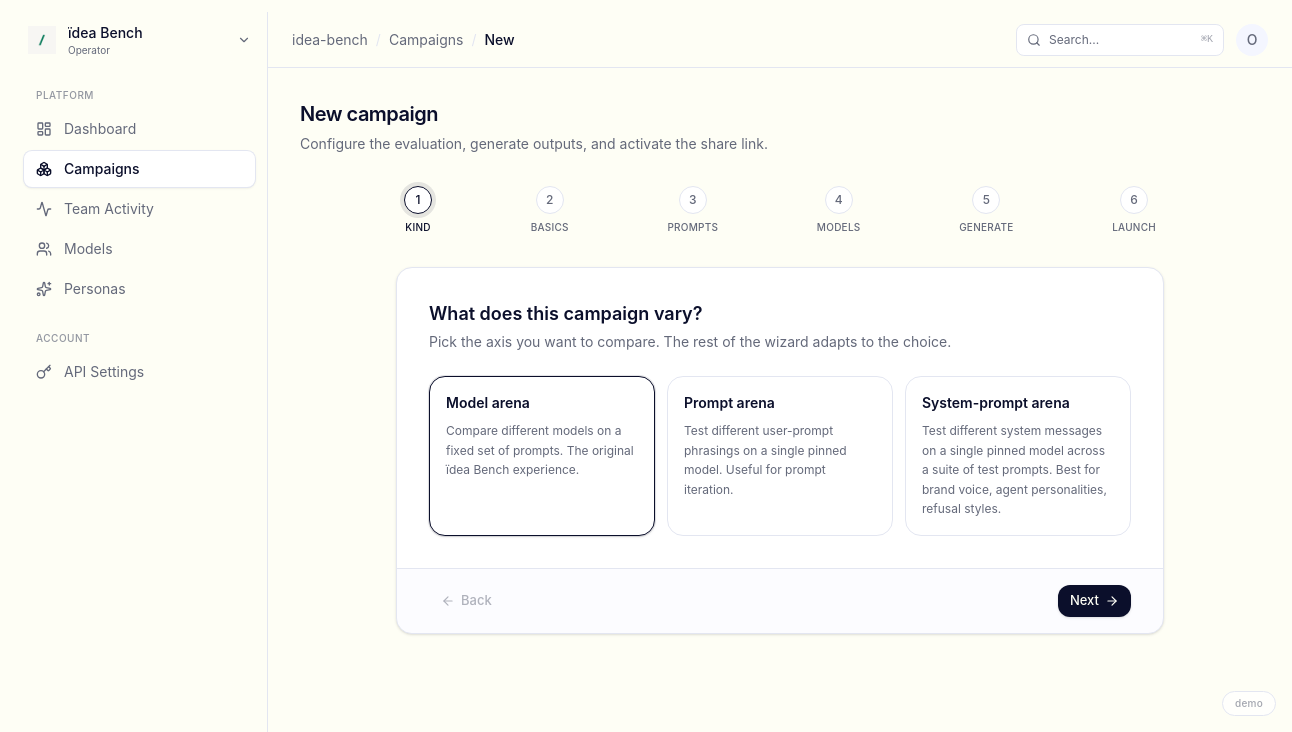
Test: CreateCampaign › Step 0 — kind picker › selects system-prompt-arena and advances past Step 0
Click the radio button labelled "System-prompt arena": (1018, 456) [905,376,1131,536]
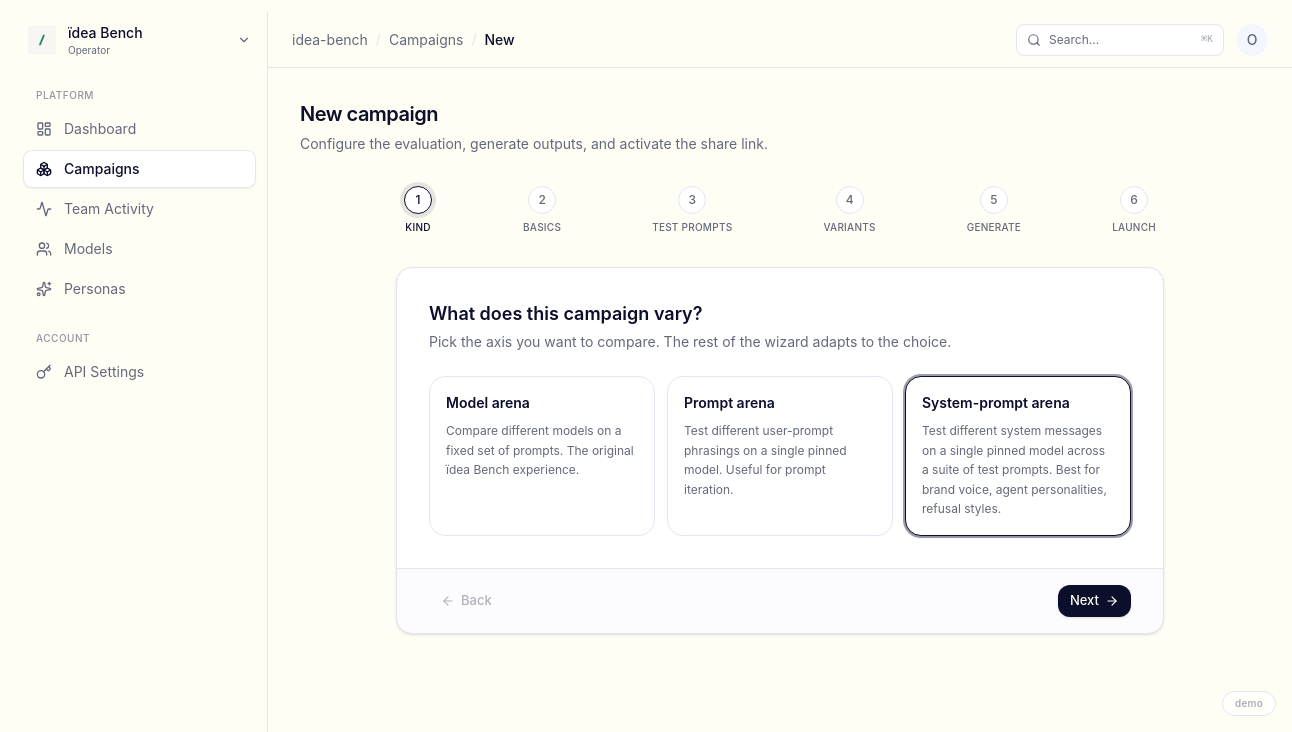
Expected: the radio button labelled "System-prompt arena" is checked, [905,376,1131,536]
Click the button "Next": (1094, 600) [1058,584,1131,616]
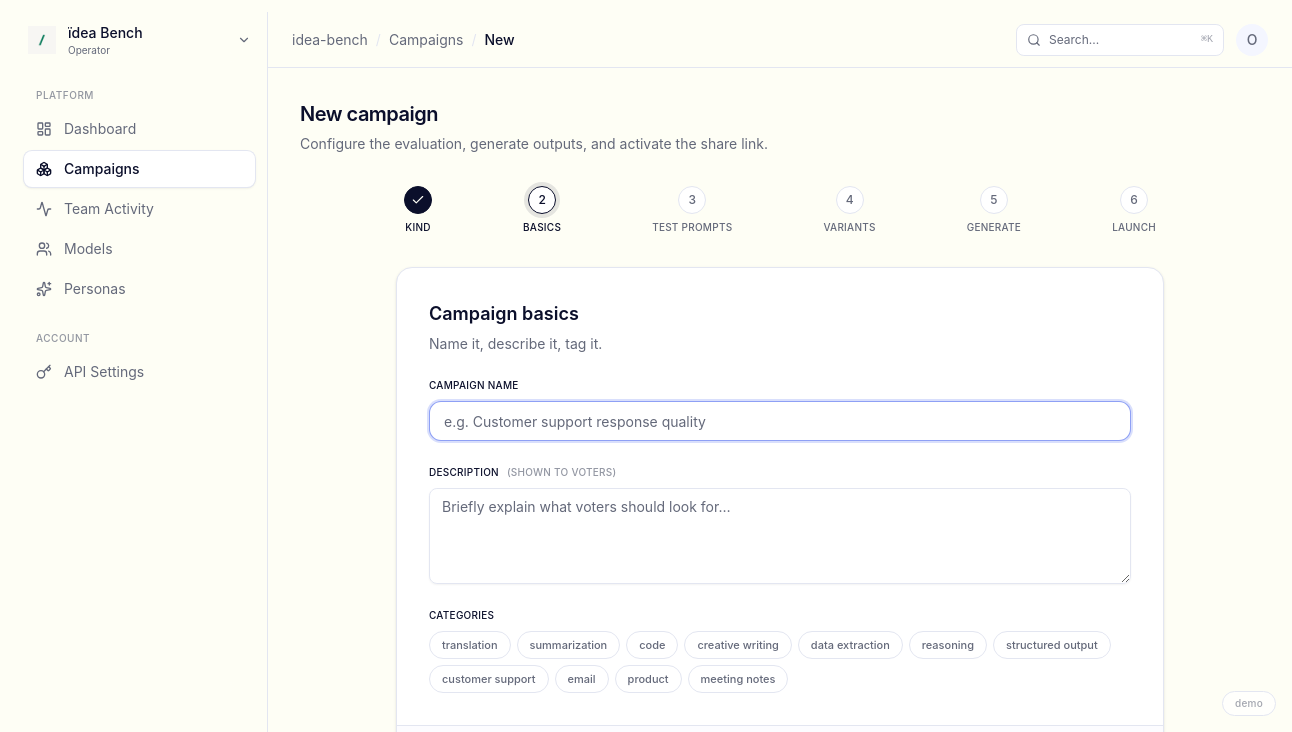
Expected: the field labelled "Campaign name" is shown, [429,401,1131,441]
